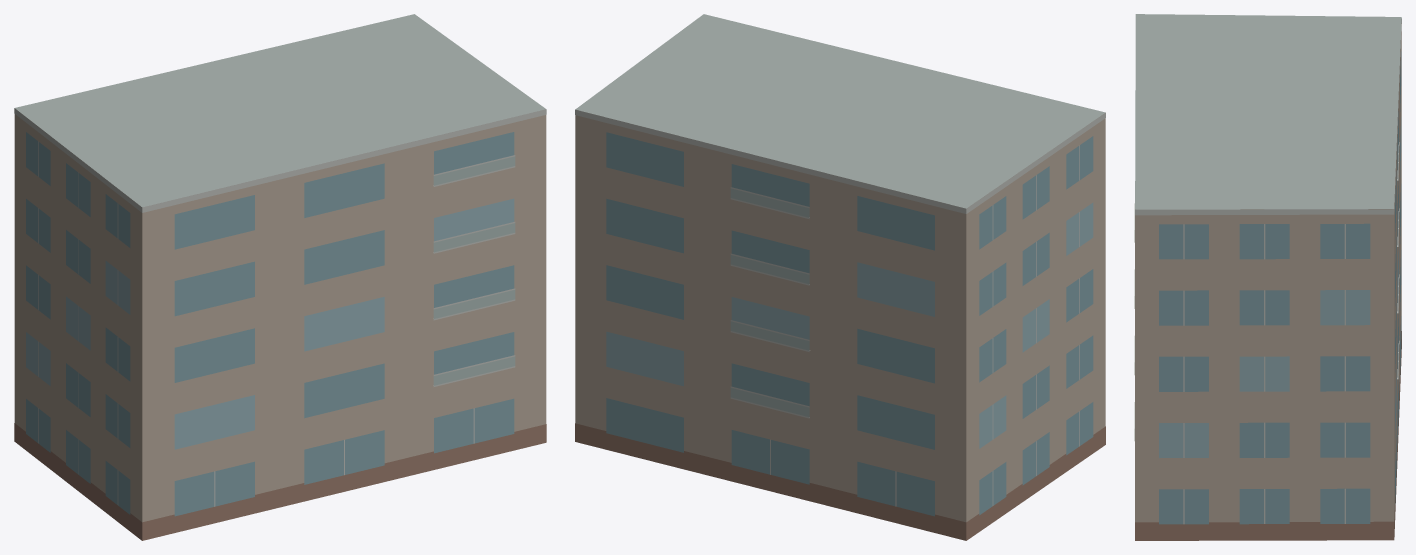
The model's file is survey-upis-33010115.glb.
3 renders of one model, left to right at view 1: azimuth 30°, elevation 25°; view 2: azimuth 150°, elevation 25°; view 3: azimuth 270°, elevation 25°, orthographic.
Visible parts, largest first — view 1: survey-upis-33010115.tmp; view 2: survey-upis-33010115.tmp; view 3: survey-upis-33010115.tmp.
Part boxes in pixels (x1,y1,x2,y2): survey-upis-33010115.tmp: (14,14,546,540); survey-upis-33010115.tmp: (575,14,1105,540); survey-upis-33010115.tmp: (1134,14,1401,540).
Size of the model in its own units: 18.58 by 14.65 by 10.74.
